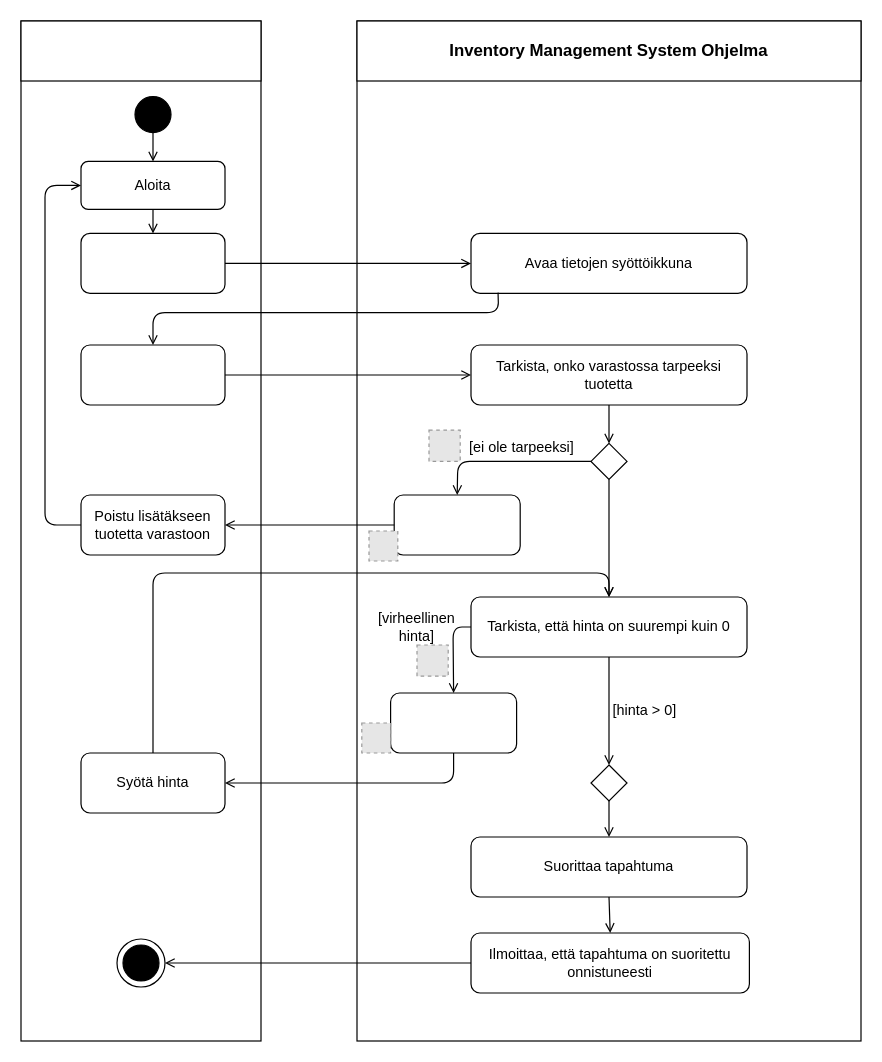
Image size: 882x1062. Some labels were removed from this diagram. Grey dashed boxes stand in for pictures. The shapes that lost their labels are listed below. From the top down, each one's centre as x and y in pixels, then its label:
the point at 140,50: Käyttäjä
the point at 152,262: Paina "Lisää tapahtuma"
the point at 152,374: Valitse asiakas, valitse tuote, syötä hinta
the point at 456,524: Ilmoita, että tuotetta ei ole riittävästi myyntiin
the point at 453,722: Ilmoita virheellisestä hinnasta
